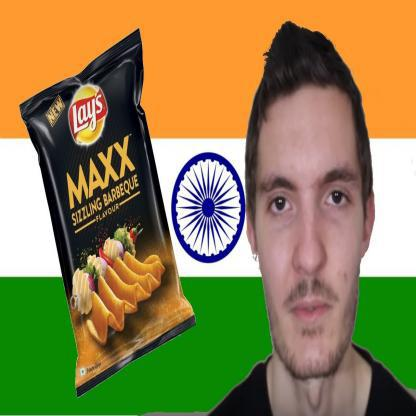maxx_sizzling_barbeque: (10, 32, 199, 385)
